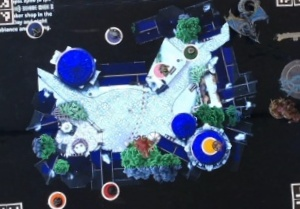blue: (21, 18, 45, 40)
green: (179, 42, 198, 61)
orange: (46, 187, 69, 209)
pink: (151, 60, 169, 81)
red: (96, 179, 122, 200)
violet: (100, 21, 127, 48)
yellow: (201, 133, 221, 156)
